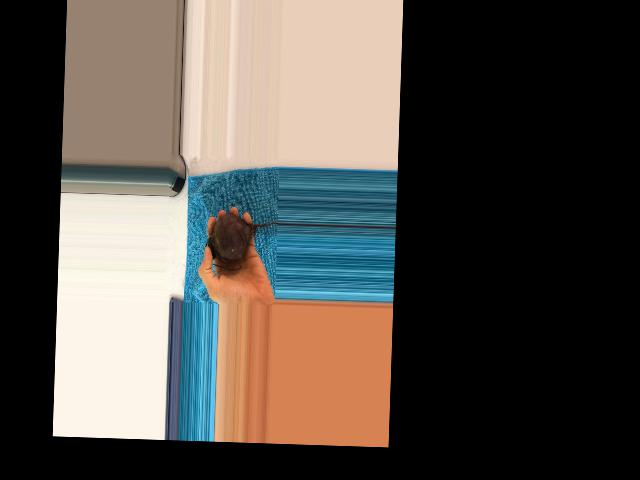beet: (204, 213, 278, 271)
